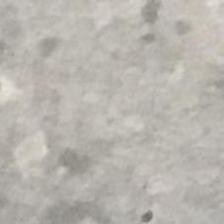Non_Crack: (11, 30, 218, 215)
